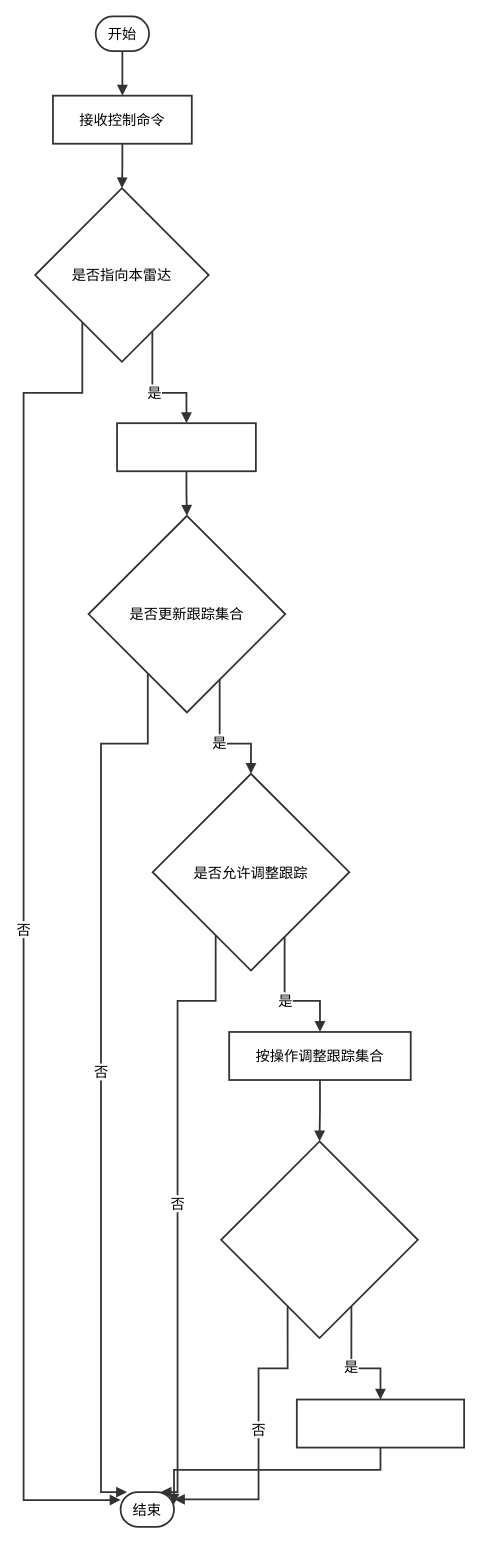
Image size: 480x1542. Some labels were removed from this diagram. The box of each missing label's shape, as (x1, y1, x2, y2) in pixels:
淘汰最早指定目标: (295, 1398, 465, 1448)
装订工作参数: (116, 422, 256, 472)
跟踪容量是否已满: (220, 1140, 418, 1339)
